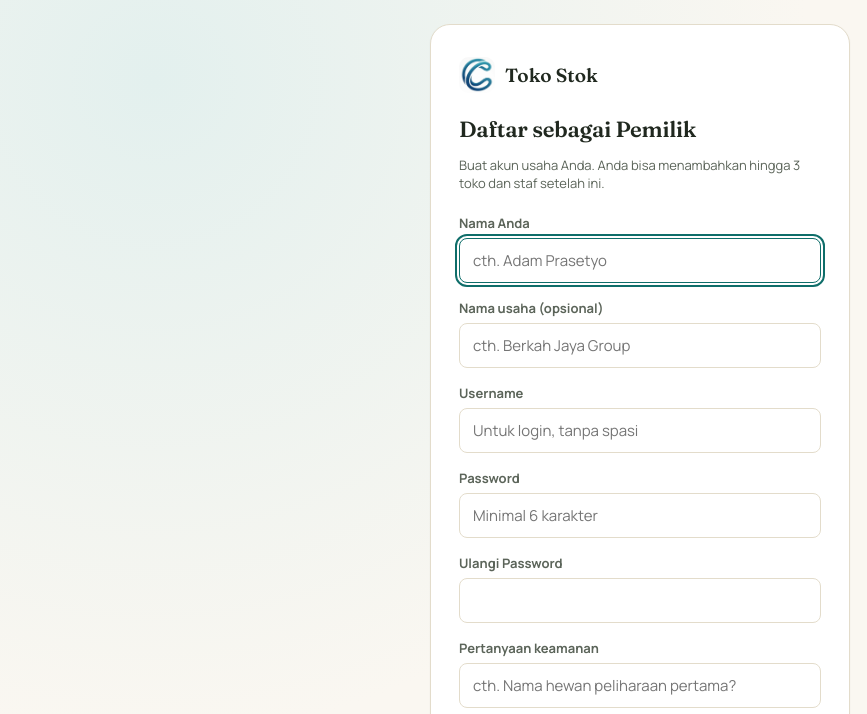
Test: Halaman Register › menolak submit jika konfirmasi password tidak sama
Check: the heading "Daftar sebagai Pemilik" is shown, box x1=459 y1=115 x2=696 y2=143
Step 1. Type "Adam" into the field labelled "Nama Anda" → x=640, y=260, box x1=459 y1=238 x2=821 y2=283
Step 2. Type "adam.owner" into the field labelled "Username" → x=640, y=430, box x1=459 y1=408 x2=821 y2=453
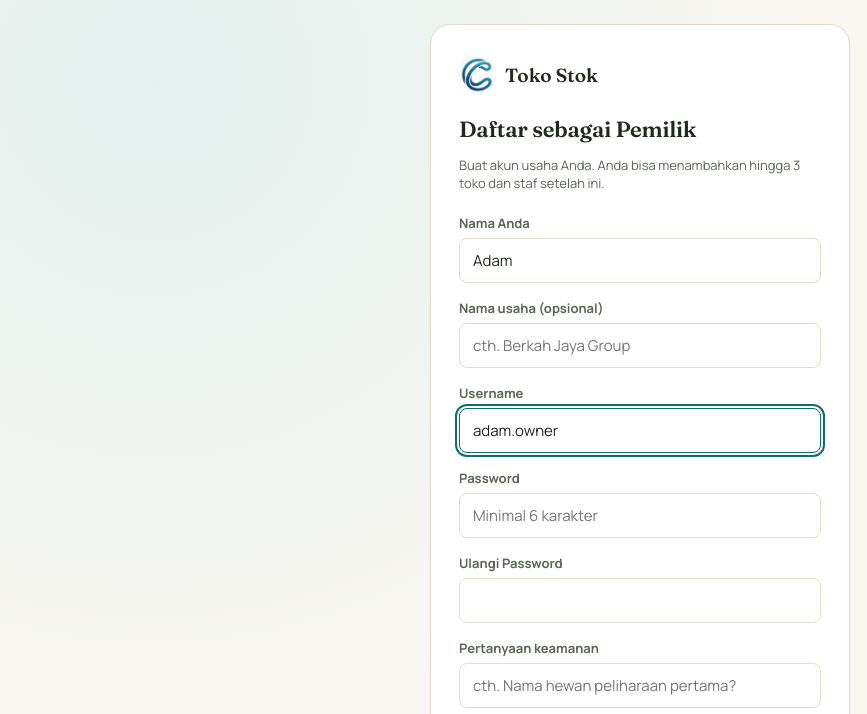
Step 3. Type "rahasia123" into the password field labelled "Password" → x=640, y=516, box x1=459 y1=493 x2=821 y2=538
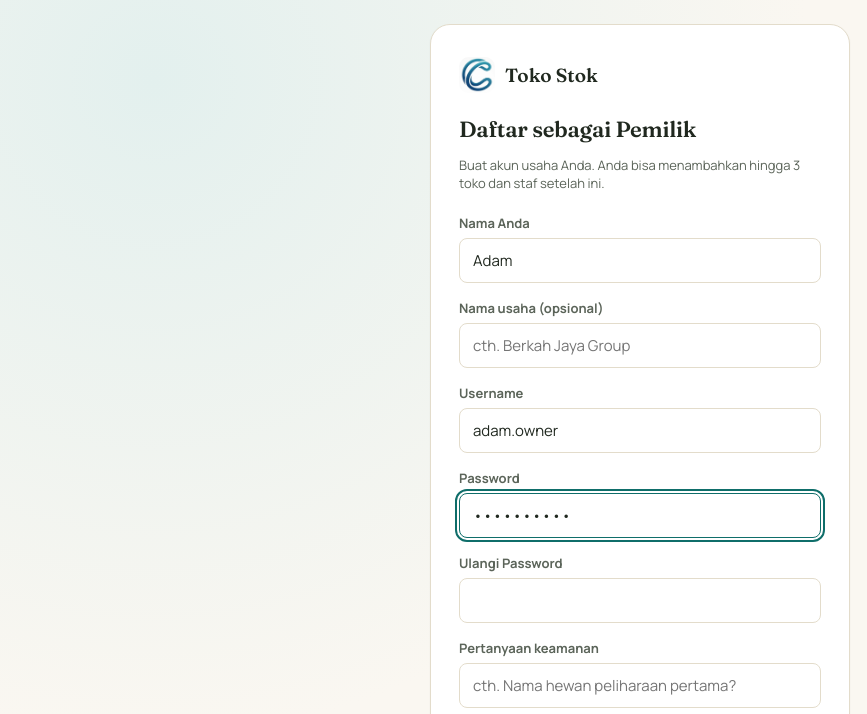
Step 4. Type "beda123" into the password field labelled "Ulangi Password" → x=640, y=600, box x1=459 y1=578 x2=821 y2=623
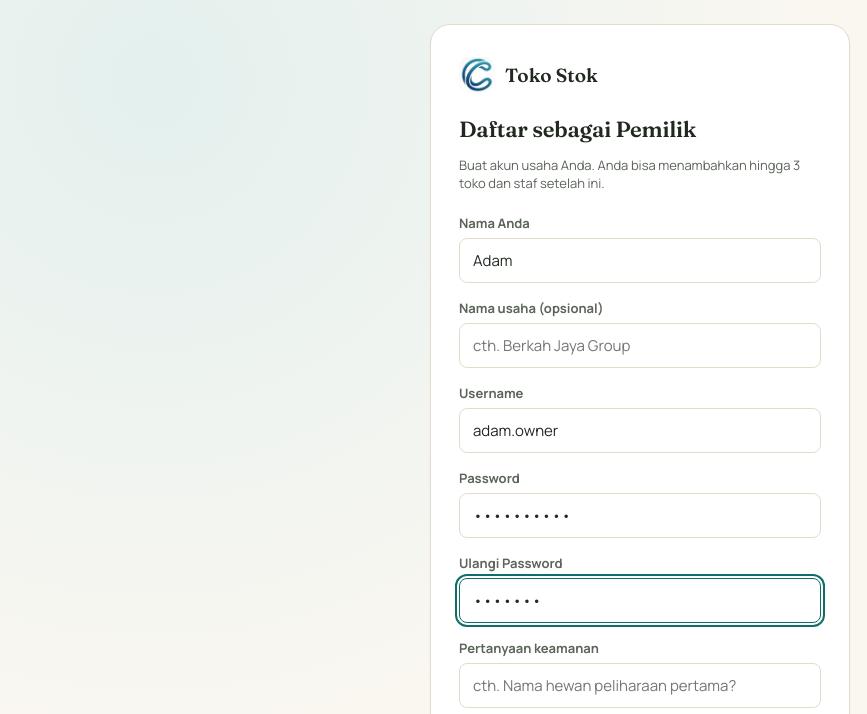
Step 5. Type "Nama hewan?" into the field labelled "Pertanyaan keamanan" → x=640, y=686, box x1=459 y1=663 x2=821 y2=708
(page scrolled)
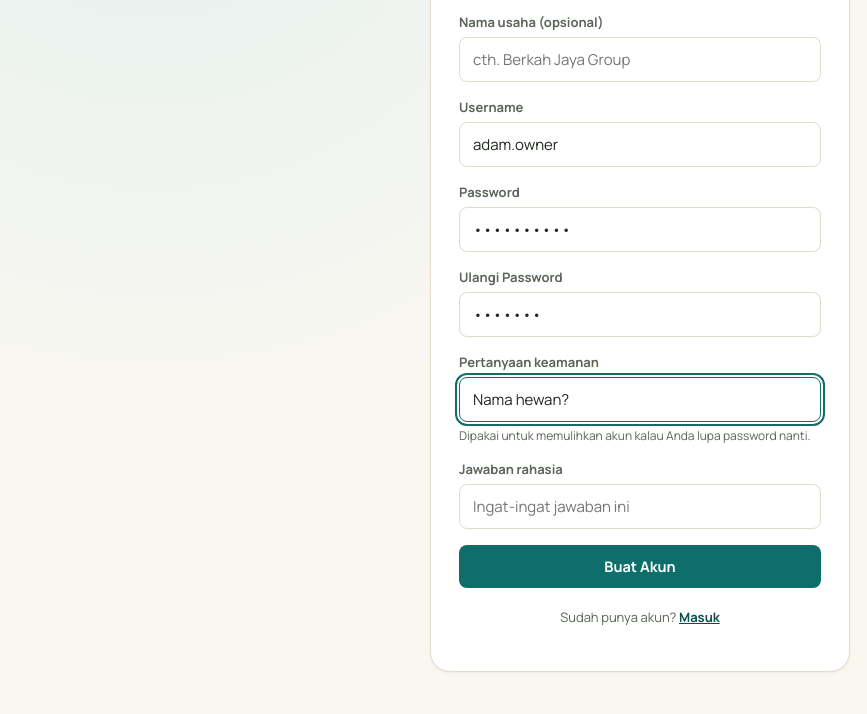
Step 6. Type "Milo" into the field labelled "Jawaban rahasia" → x=640, y=506, box x1=459 y1=484 x2=821 y2=529
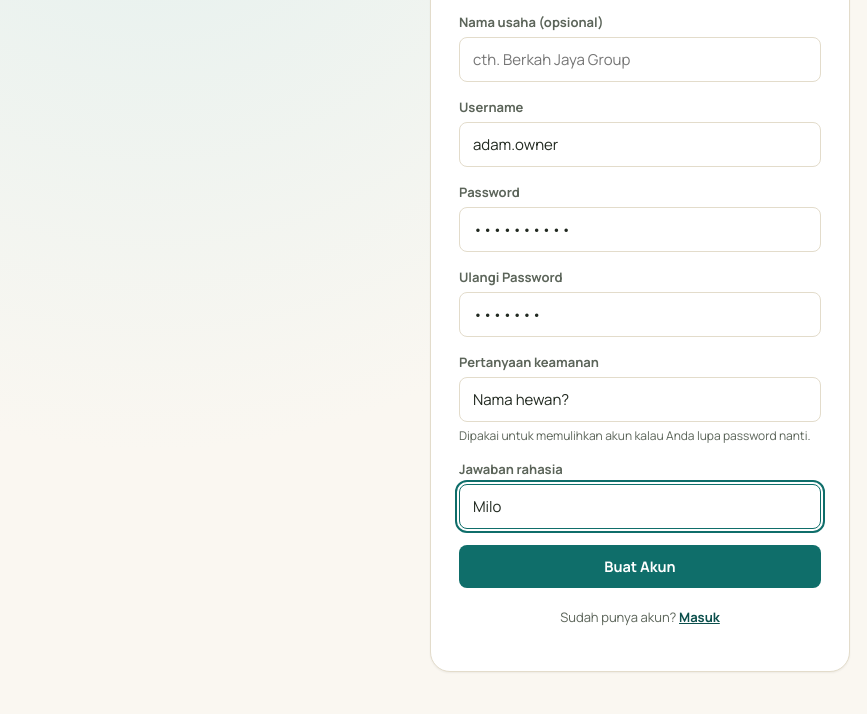
Step 7. Click the button "Buat Akun" → x=640, y=566, box x1=459 y1=545 x2=821 y2=588
(page scrolled)
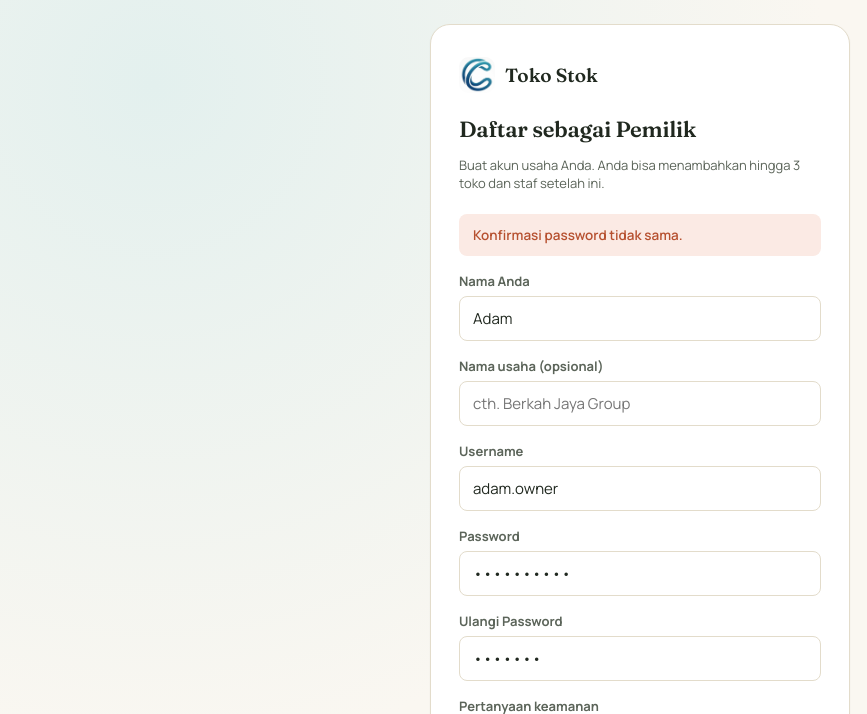
Check: the text "Konfirmasi password tidak sama." is shown, box x1=459 y1=214 x2=821 y2=256
